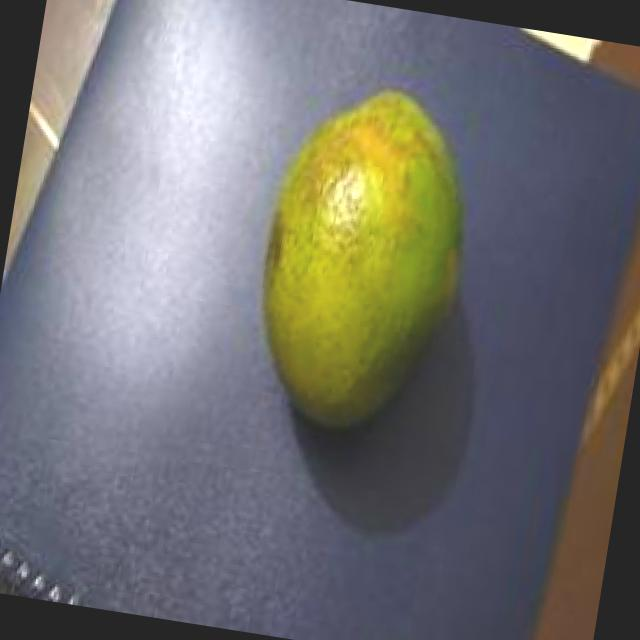Rotten_Orange: (176, 34, 534, 458)
